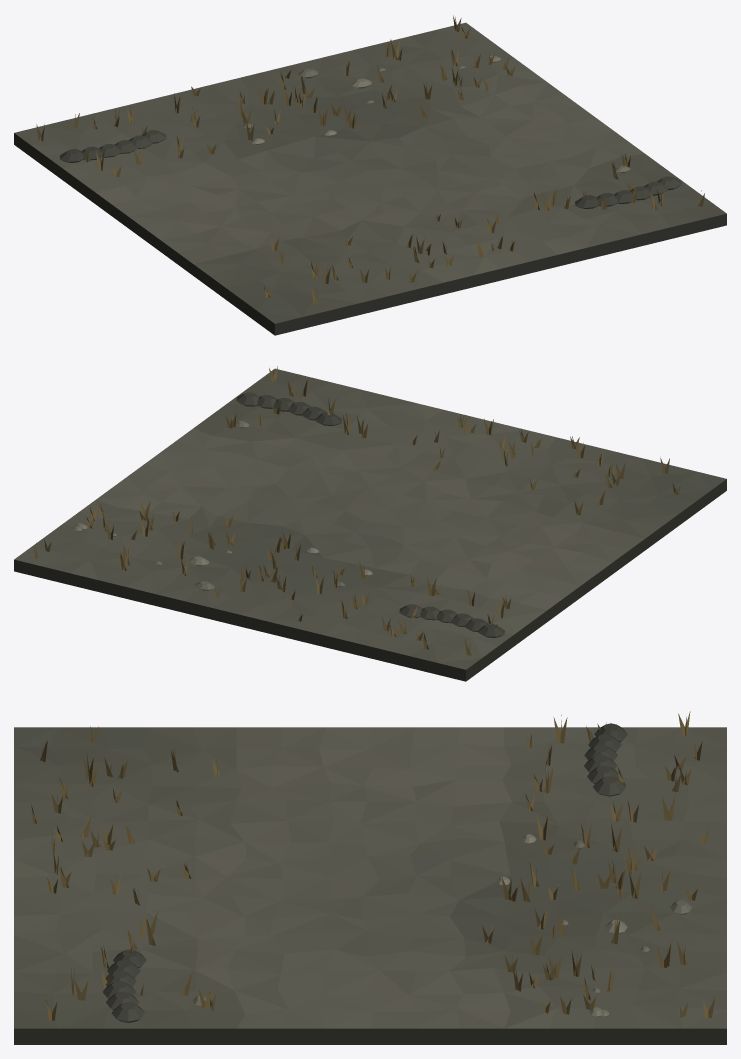
Rendered from CHUNK_ash_grassland__dead_orchard.glb.
3 views of the same model, one above another, from view 1: azimuth 30°, elevation 25°; view 2: azimuth 150°, elevation 25°; view 3: azimuth 270°, elevation 25° (orthographic). The views are drawn at different scales.
Parts seen in each view (by area): view 1: CHUNK_ash_grassland__dead_orchard; view 2: CHUNK_ash_grassland__dead_orchard; view 3: CHUNK_ash_grassland__dead_orchard.
Boxes of the visible parts, x1,y1,x2,y2 form: CHUNK_ash_grassland__dead_orchard: (14, 15, 726, 335); CHUNK_ash_grassland__dead_orchard: (14, 366, 726, 681); CHUNK_ash_grassland__dead_orchard: (14, 711, 726, 1044).
Size of the model in its own units: 8 by 0.559 by 8.
